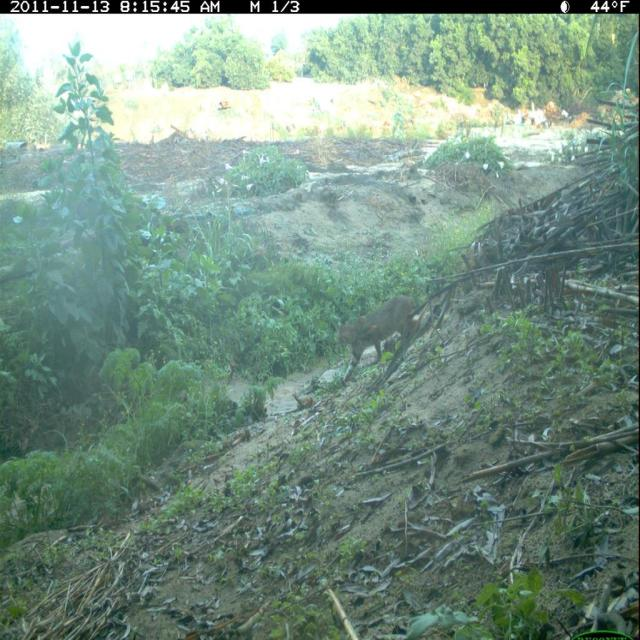bobcat: (332, 294, 422, 385)
